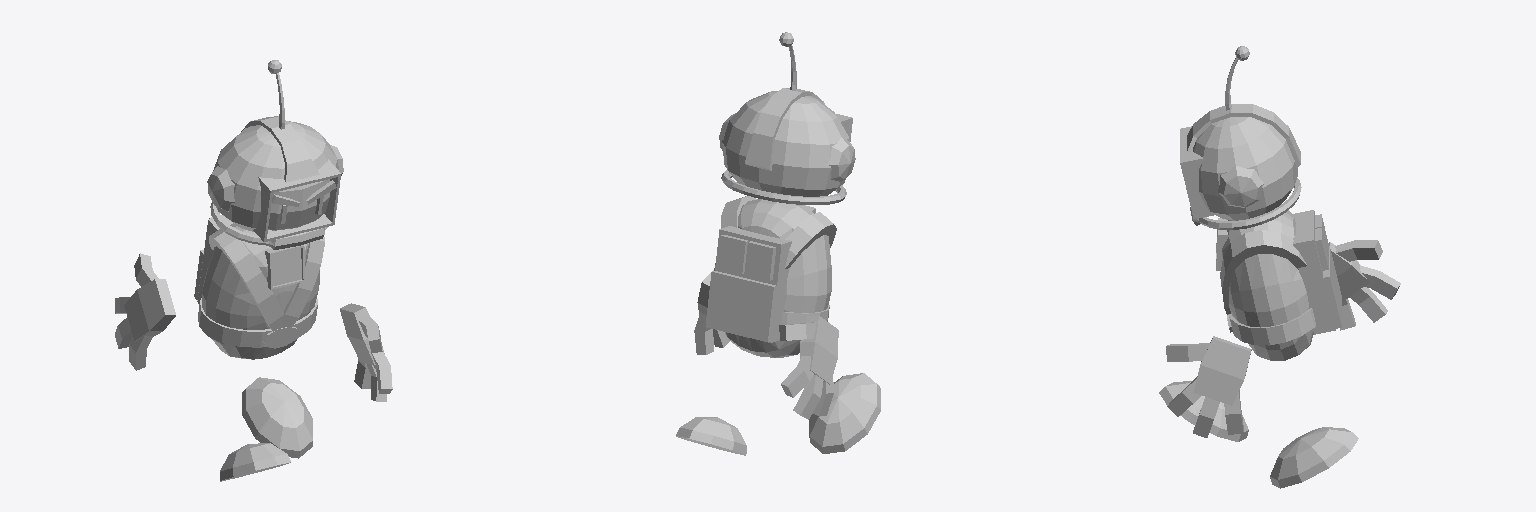
The model's file is bomberman_000003.obj.
The picture shows the model from 3 angles: view 1: azimuth 30°, elevation 25°; view 2: azimuth 150°, elevation 25°; view 3: azimuth 270°, elevation 25°; orthographic projection.
Visible parts, largest first — view 1: BM_BODY.002_Mesh.009, BM_Head.002_Mesh.005, BM_Head.001_Mesh.004, BM_BODY.001_Mesh.008, L_Foot_Mesh, R_Hand_Mesh.003, L_Hand_Mesh.002, R_Foot_Mesh.001; view 2: BM_BODY.002_Mesh.009, BM_Head.002_Mesh.005, BM_BODY.001_Mesh.008, BM_Head.001_Mesh.004, R_Hand_Mesh.003, R_Foot_Mesh.001, L_Foot_Mesh, L_Hand_Mesh.002; view 3: BM_BODY.002_Mesh.009, BM_Head.002_Mesh.005, BM_BODY.001_Mesh.008, BM_Head.001_Mesh.004, L_Hand_Mesh.002, R_Hand_Mesh.003, L_Foot_Mesh, R_Foot_Mesh.001.
Part boxes in pixels (x1,y1,x2,y2): BM_BODY.002_Mesh.009: (194, 215, 324, 348); BM_Head.002_Mesh.005: (213, 121, 338, 249); BM_Head.001_Mesh.004: (207, 116, 343, 245); BM_BODY.001_Mesh.008: (202, 223, 319, 359); L_Foot_Mesh: (242, 377, 312, 458); R_Hand_Mesh.003: (115, 253, 175, 370); L_Hand_Mesh.002: (340, 303, 392, 401); R_Foot_Mesh.001: (220, 443, 290, 481); BM_BODY.002_Mesh.009: (705, 196, 836, 342); BM_Head.002_Mesh.005: (722, 91, 849, 196); BM_BODY.001_Mesh.008: (714, 199, 831, 357); BM_Head.001_Mesh.004: (719, 88, 855, 204); R_Hand_Mesh.003: (779, 316, 838, 419); R_Foot_Mesh.001: (809, 373, 880, 453); L_Foot_Mesh: (676, 417, 746, 455); L_Hand_Mesh.002: (694, 270, 729, 354); BM_BODY.002_Mesh.009: (1216, 204, 1341, 345); BM_Head.002_Mesh.005: (1190, 117, 1297, 225); BM_BODY.001_Mesh.008: (1222, 212, 1313, 360); BM_Head.001_Mesh.004: (1180, 104, 1301, 229); L_Hand_Mesh.002: (1166, 336, 1251, 437); R_Hand_Mesh.003: (1329, 240, 1400, 330); L_Foot_Mesh: (1270, 427, 1358, 488); R_Foot_Mesh.001: (1159, 381, 1248, 441).
Bounding box in the file's own units: 3.77 × 8.08 × 4.24.